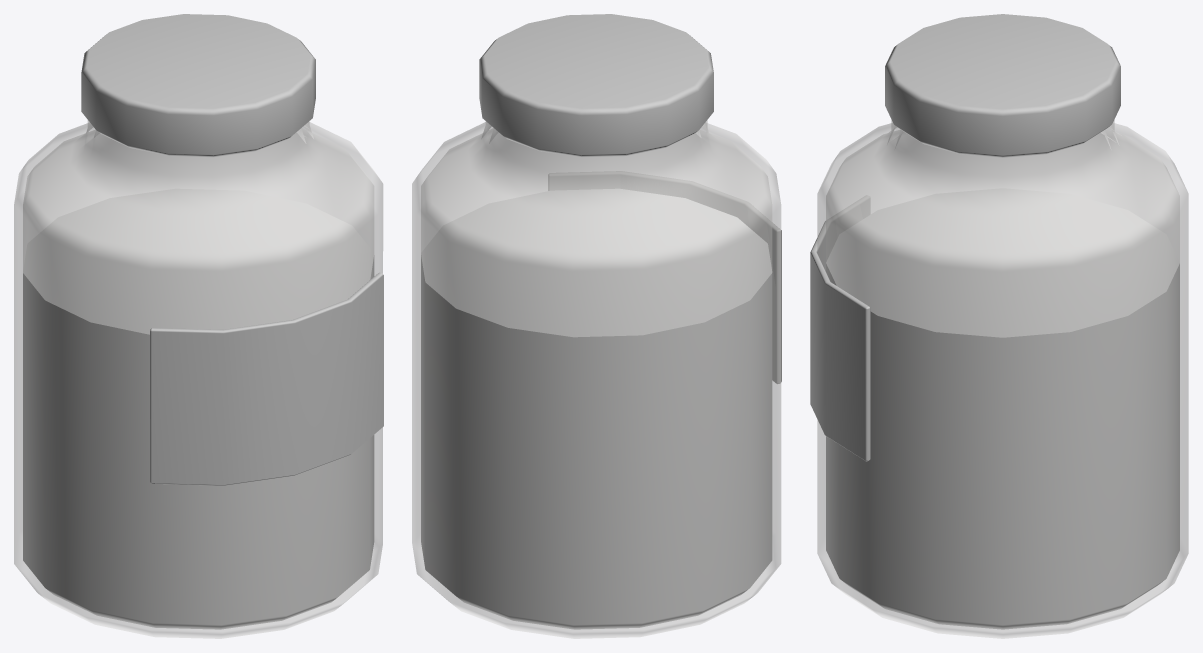
The model's file is Bottle_25.fbx.
3 renders of one model, left to right at view 1: azimuth 30°, elevation 25°; view 2: azimuth 150°, elevation 25°; view 3: azimuth 270°, elevation 25°, orthographic.
Visible parts, largest first — view 1: Bottle_25; view 2: Bottle_25; view 3: Bottle_25.
Boxes of the visible parts, <box> form: Bottle_25: <box>14,14,383,638</box>; Bottle_25: <box>412,14,781,638</box>; Bottle_25: <box>810,14,1188,638</box>.
Size of the model in its own units: 21.59 by 32.4 by 22.
